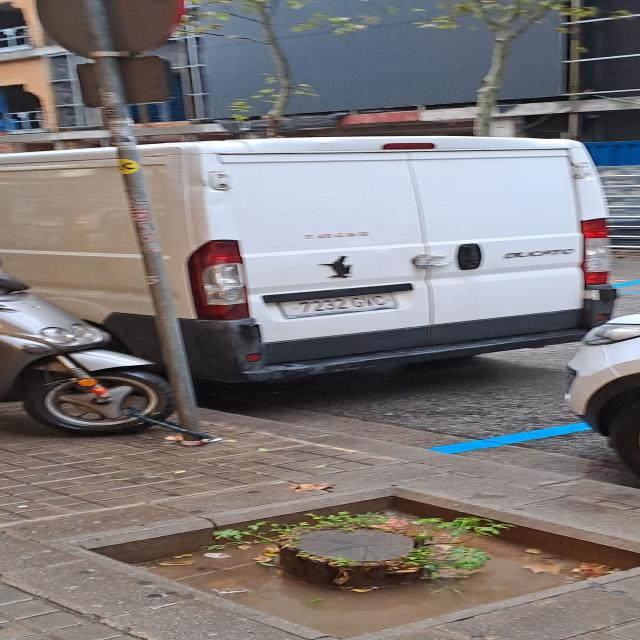license_plate-34Td: (281, 293, 396, 319)
